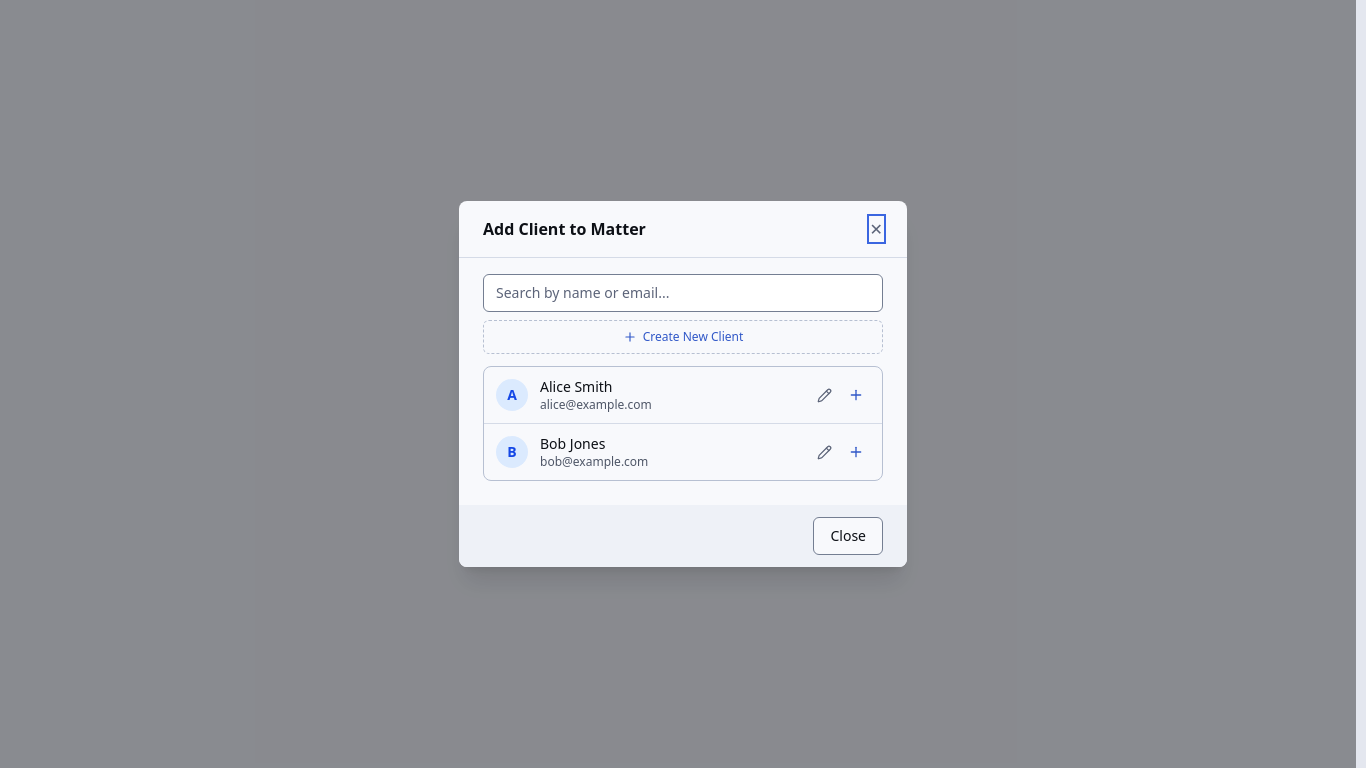
opening Create after editing a client › starts from an empty form
The width and height of the screenshot is (1366, 768).
Click the button named "Edit Client" next to "alice@example.com".
click(824, 395)  # box [811,382,838,408]
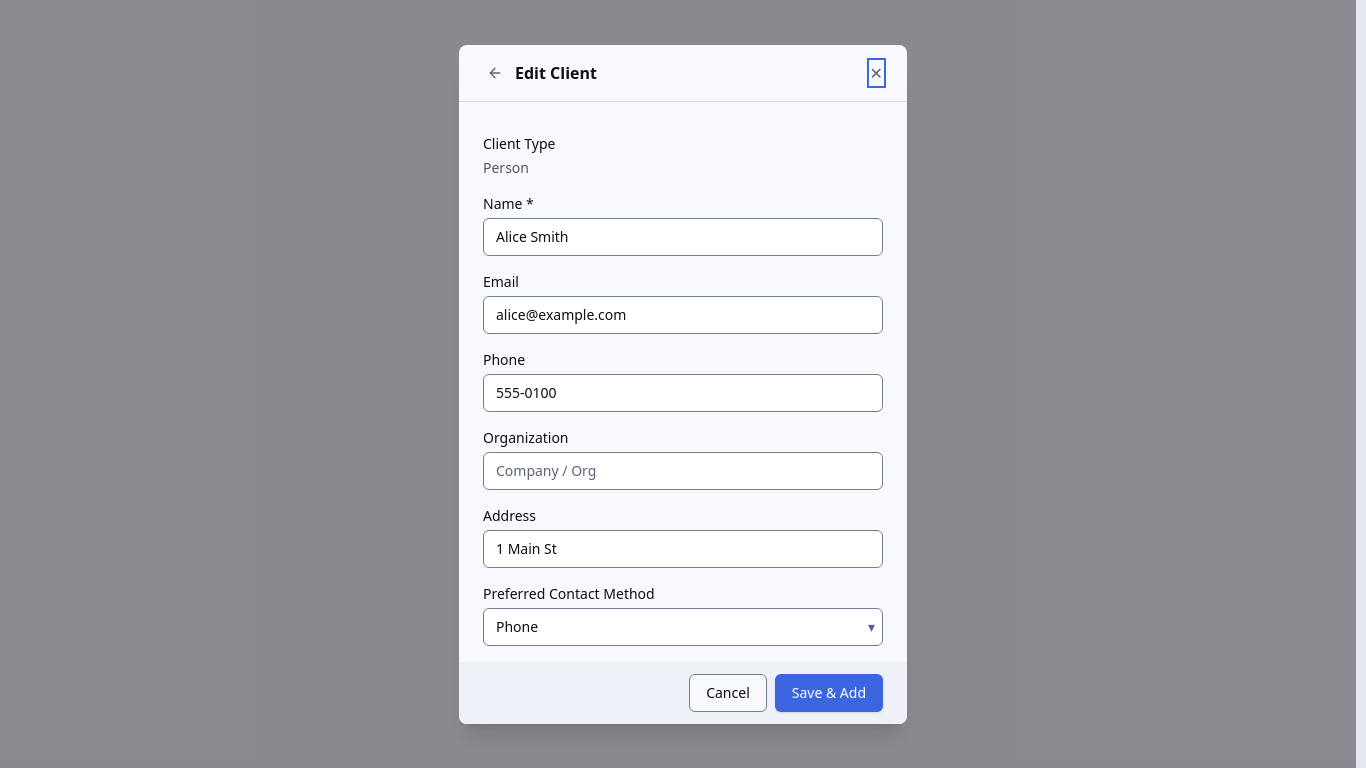
Result: the field with placeholder "(555) 123-4567" holds "555-0100" at [483,374,883,412]
Click the button named "Back to search".
click(495, 72)  # box [483,60,507,84]
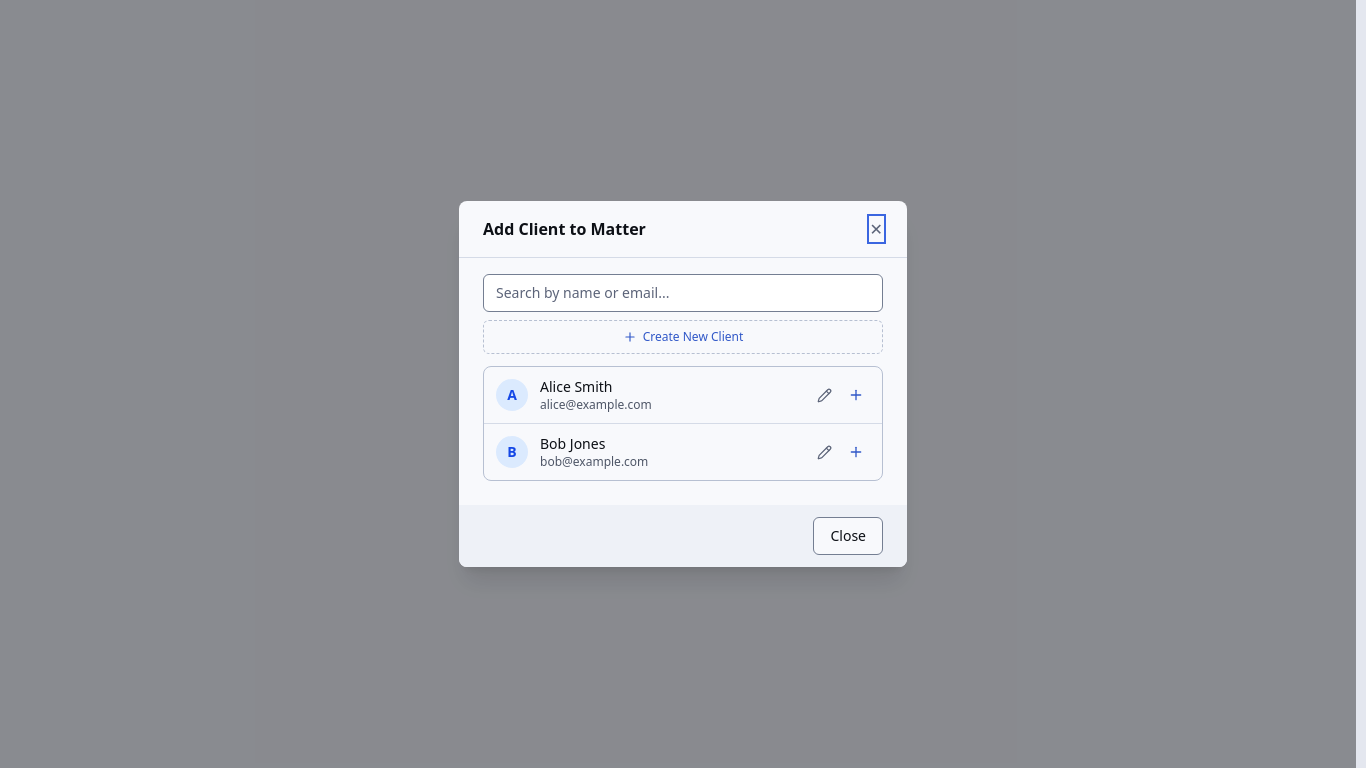
Click the button "Create New Client".
click(683, 337)  # box [483,320,883,354]
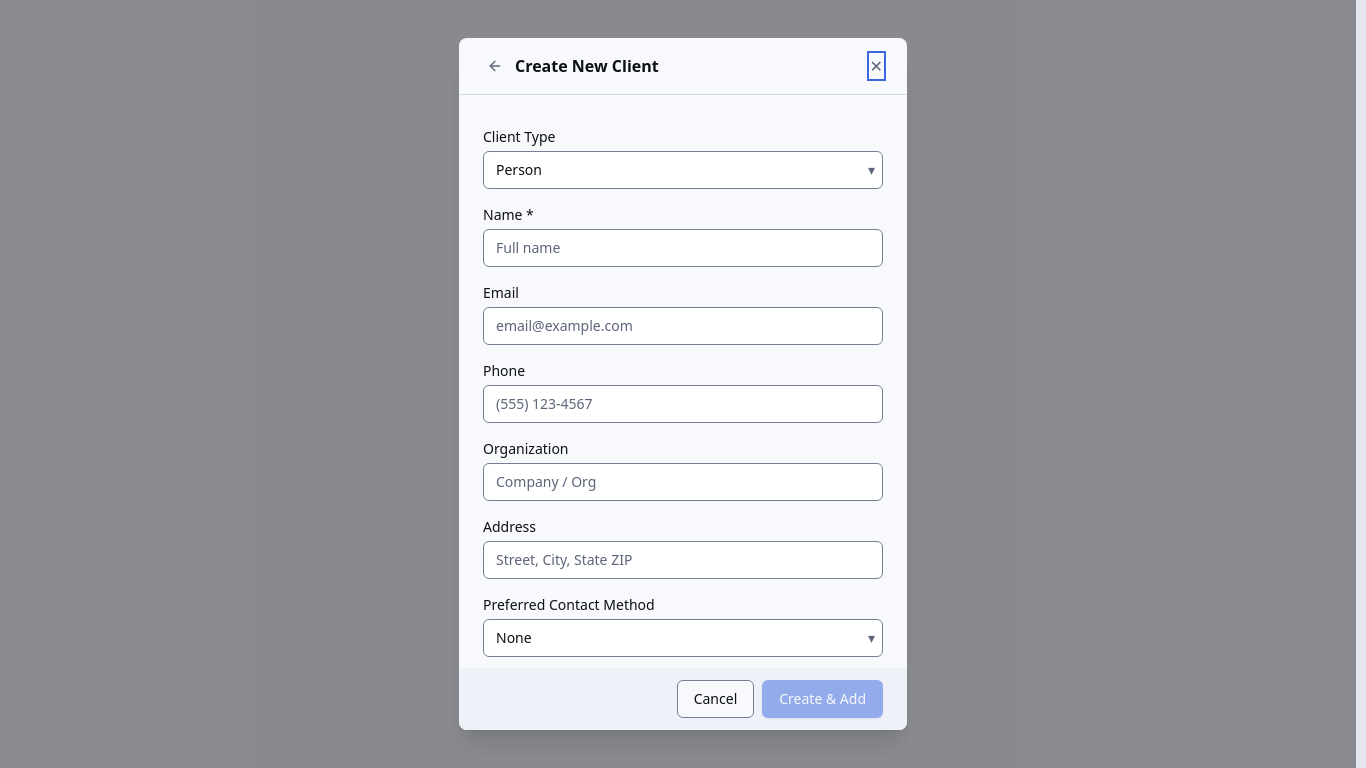
Result: the heading "Create New Client" is shown at [515,54,659,78]
Result: the field with placeholder "Full name" is empty at [483,229,883,267]
Result: the field with placeholder "email@example.com" is empty at [483,307,883,345]
